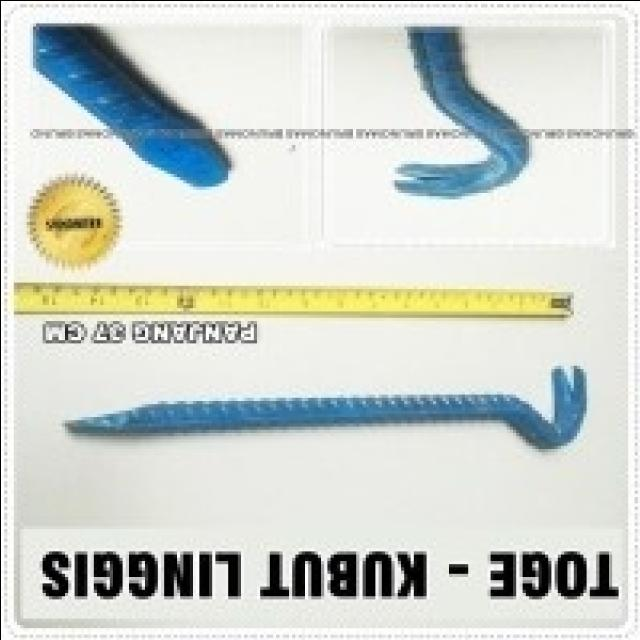Linggis: (62, 371, 584, 463)
